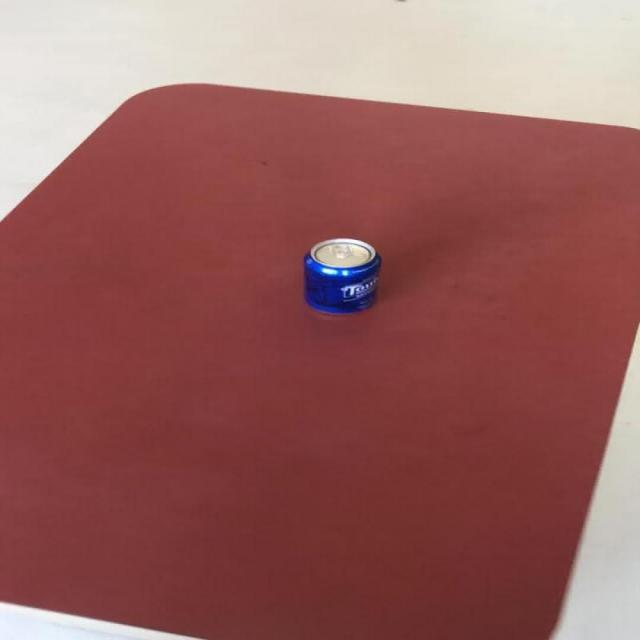Tonic: (301, 237, 380, 314)
